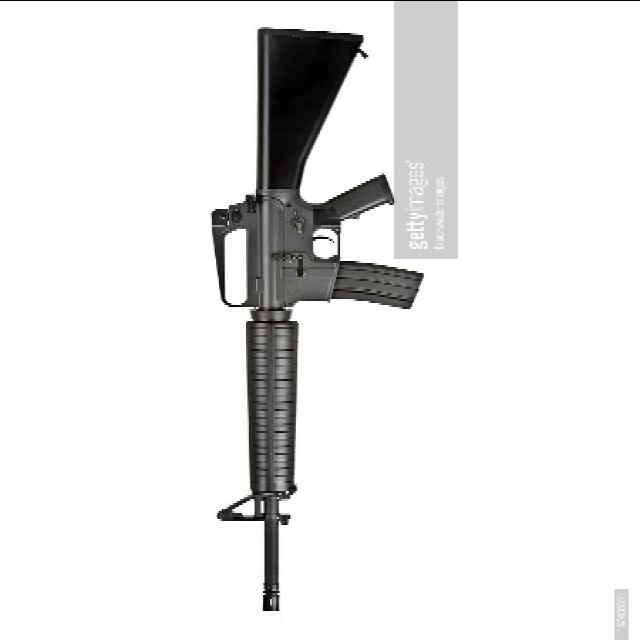rifle: (205, 27, 421, 625)
